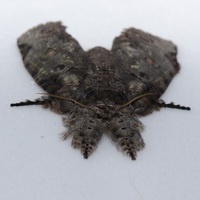insect: (14, 22, 179, 159)
